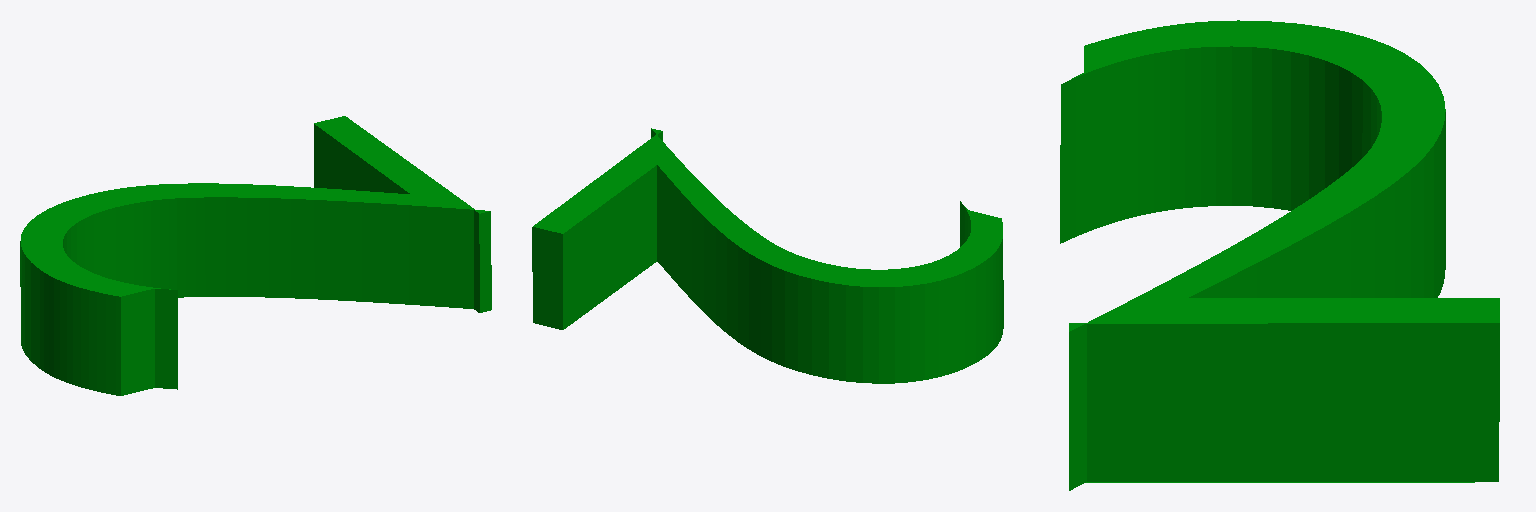
robot.urdf — number_2:
<?xml version="0.0" ?>
<robot name="number_2">
    <material name="green">
        <color rgba="0.005953 0.613846 0.061735 1"/>
    </material>

    <link name="baseLink">
        <!-- from lego/lego.urdf -->
        <contact>
            <lateral_friction value="1.0"/>
            <rolling_friction value="0.0"/>
            <contact_cfm value="0.0"/>
            <contact_erp value="1.0"/>
        </contact>
        <inertial>
            <origin rpy="0 0 0" xyz="0 0 0"/>
            <mass value="0.01"/>
            <inertia ixx="1" ixy="0" ixz="0" iyy="1" iyz="0" izz="1"/>
        </inertial>
        <visual>
            <origin rpy="1.57 0 0" xyz="0 0 0"/>
            <geometry>
                <!--        radius: 10mm, depth: 14.5mm-->
                <mesh filename="meshes/number_2.obj" scale="0.025 0.025 0.025"/>
                <!--        <box size="0.002 0.002 0.002"/>-->
            </geometry>
            <material name="green"/>
        </visual>
        <collision>
            <origin rpy="1.57 0 0" xyz="0 0 0"/>
            <geometry>
                <mesh filename="meshes/number_2_vhacd.obj" scale="0.025 0.025 0.025"/>
                       <!-- <box size="0.002 0.002 0.002"/> -->
            </geometry>
        </collision>
    </link>
    
    <link name="waypoint_0">
        <!--    origin-->
        <inertial>
            <origin rpy="0 0 0" xyz="0 0 0"/>
            <mass value=".0"/>
            <inertia ixx="0." ixy="0" ixz="0" iyy="0." iyz="0" izz="0."/>
        </inertial>
    </link>

    <joint name="waypoint_joint_0" type="fixed">
        <parent link="baseLink"/>
        <child link="waypoint_0"/>
        <origin rpy="0 0 1.1" xyz="0 0.01 0.03"/>
    </joint>

    <link name="waypoint_1">
        <!--    origin-->
        <inertial>
            <origin rpy="0 0 0" xyz="0 0 0"/>
            <mass value=".0"/>
            <inertia ixx="0." ixy="0" ixz="0" iyy="0." iyz="0" izz="0."/>
        </inertial>
    </link>

    <joint name="waypoint_joint_1" type="fixed">
        <parent link="baseLink"/>
        <child link="waypoint_1"/>
        <origin rpy="0 0 0" xyz="0 0 0.15"/>
    </joint>
</robot>

--- Facts derived from the render (not from the file) ---
The picture shows the robot from 3 angles, left to right: view 1: azimuth 30°, elevation 25°; view 2: azimuth 150°, elevation 25°; view 3: azimuth 270°, elevation 25°; orthographic projection.
Robot: number_2 — 3 links, 2 joints (2 fixed); root link baseLink; default pose: every joint at zero.
Visible links, largest first — view 1: baseLink; view 2: baseLink; view 3: baseLink.
Link boxes in pixels (x1,y1,x2,y2): baseLink: (20, 116, 491, 395); baseLink: (532, 128, 1003, 383); baseLink: (1060, 20, 1499, 490).
Size in the robot's own frame: 0.0671 by 0.04 by 0.016 metres.
1 mesh visuals loaded from 1 distinct referenced files (1 OBJ).